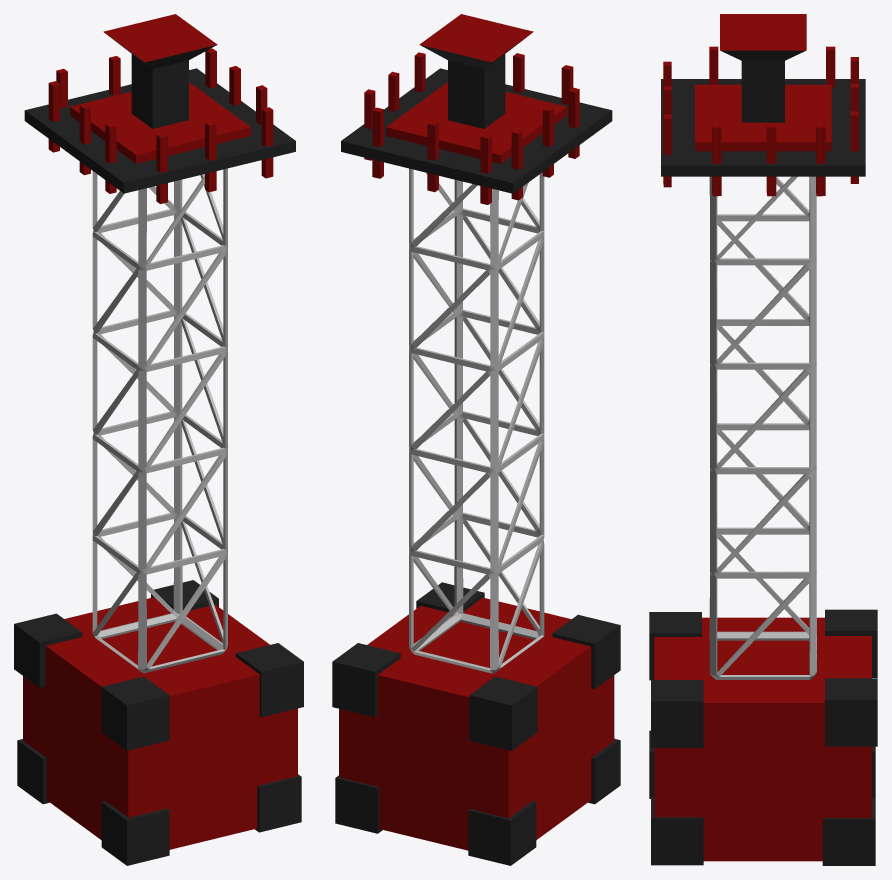
The model's file is Red Borj Electric.fbx.
3 renders of one model, left to right at view 1: azimuth 30°, elevation 25°; view 2: azimuth 150°, elevation 25°; view 3: azimuth 270°, elevation 25°, orthographic. The views are drawn at different scales.
Visible parts, largest first — view 1: polySurface21, polySurface23, polySurface22, polySurface10, polySurface11, polySurface12, polySurface20, polySurface9, polySurface14, polySurface13, polySurface16, polySurface18 (+4 smaller); view 2: polySurface21, polySurface23, polySurface22, polySurface20, polySurface14, polySurface13, polySurface10, polySurface6, polySurface11, polySurface12, polySurface2, polySurface3 (+4 smaller); view 3: polySurface21, polySurface22, polySurface23, polySurface13, polySurface12, polySurface9, polySurface6, polySurface20, polySurface10, polySurface19, polySurface8, polySurface15 (+1 smaller).
Part boxes in pixels (<box>): polySurface21: <box>23,597,297,849</box>; polySurface23: <box>92,168,227,673</box>; polySurface22: <box>24,14,295,193</box>; polySurface10: <box>101,676,169,750</box>; polySurface11: <box>101,801,169,865</box>; polySurface12: <box>235,643,303,717</box>; polySurface20: <box>14,613,82,687</box>; polySurface9: <box>255,774,301,832</box>; polySurface14: <box>17,739,49,804</box>; polySurface13: <box>151,580,218,610</box>; polySurface16: <box>261,107,273,178</box>; polySurface18: <box>205,121,216,192</box>; polySurface21: <box>339,597,614,850</box>; polySurface23: <box>409,168,544,673</box>; polySurface22: <box>341,14,612,193</box>; polySurface20: <box>469,676,537,750</box>; polySurface14: <box>468,801,536,865</box>; polySurface13: <box>332,643,400,717</box>; polySurface10: <box>552,614,620,688</box>; polySurface6: <box>335,775,382,833</box>; polySurface11: <box>588,738,620,804</box>; polySurface12: <box>416,582,484,612</box>; polySurface2: <box>372,107,383,178</box>; polySurface3: <box>480,134,491,204</box>; polySurface21: <box>654,617,871,861</box>; polySurface22: <box>661,14,865,176</box>; polySurface23: <box>709,176,816,679</box>; polySurface13: <box>825,678,877,746</box>; polySurface12: <box>651,680,703,747</box>; polySurface9: <box>651,797,703,865</box>; polySurface6: <box>822,797,875,865</box>; polySurface20: <box>825,609,877,677</box>; polySurface10: <box>649,612,701,680</box>; polySurface19: <box>766,124,776,196</box>; polySurface8: <box>816,124,825,196</box>; polySurface15: <box>712,124,721,196</box>.
Bounding box in the file's own units: 14.87 × 60.51 × 15.86.
